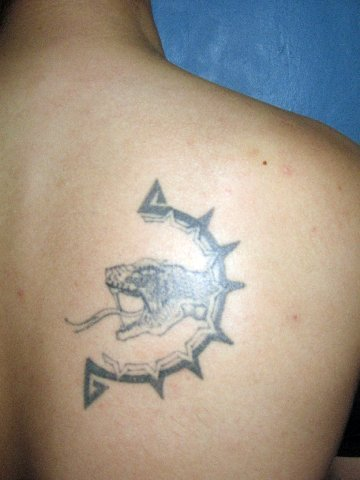tatu7_zmeya: (63, 240, 219, 344)
